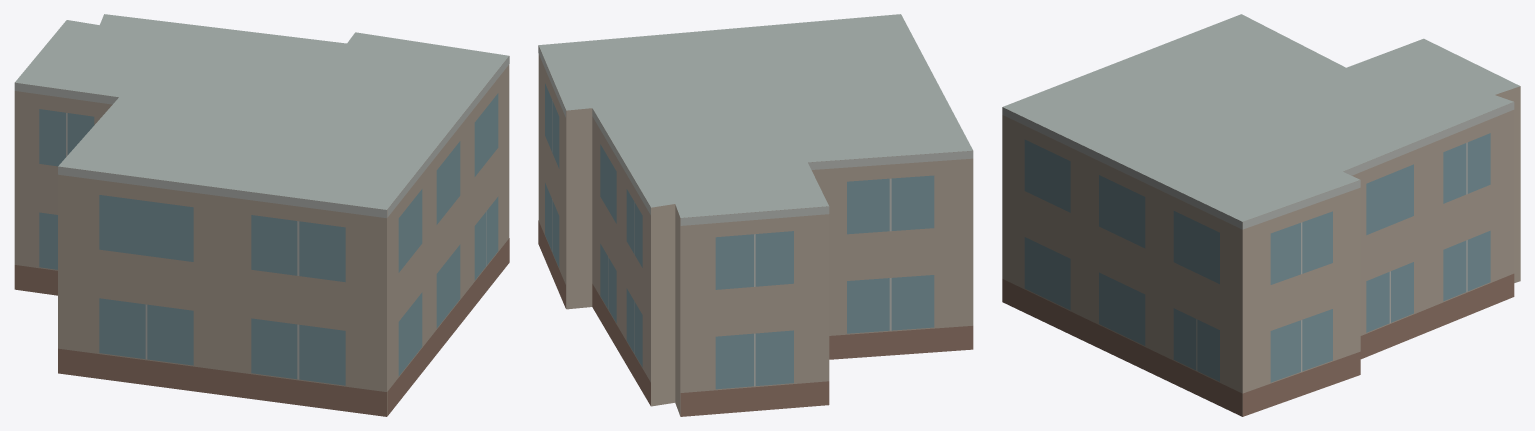
Rendered from survey-upis-33033431.glb.
The picture shows the model from 3 angles, left to right: view 1: azimuth 30°, elevation 25°; view 2: azimuth 150°, elevation 25°; view 3: azimuth 270°, elevation 25°; orthographic projection. The views are drawn at different scales.
Visible parts, largest first — view 1: survey-upis-33033431.tmp; view 2: survey-upis-33033431.tmp; view 3: survey-upis-33033431.tmp.
Part boxes in pixels (x1,y1,x2,y2): survey-upis-33033431.tmp: [14, 14, 509, 416]; survey-upis-33033431.tmp: [538, 14, 973, 416]; survey-upis-33033431.tmp: [1002, 14, 1520, 416].
Size of the model in its own units: 13.95 by 6.1 by 14.7.
